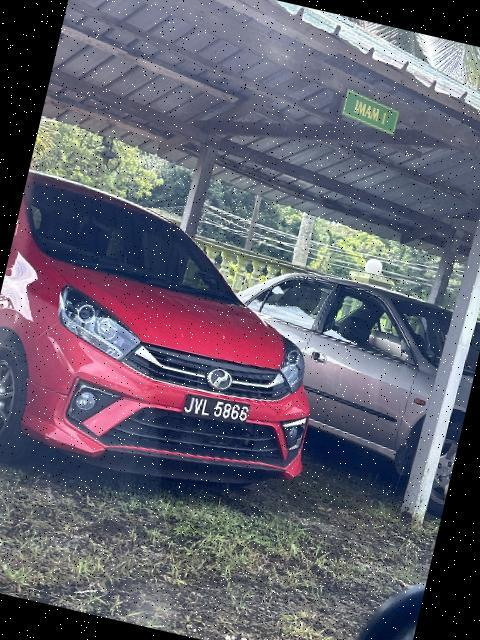JVL5866: (178, 388, 254, 436)
License_Plate: (178, 388, 254, 436)
car: (1, 165, 367, 538)
